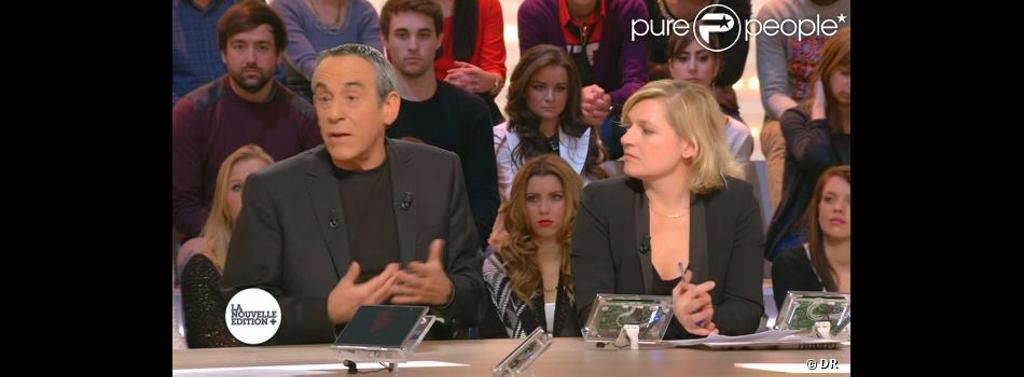face: (312, 61, 383, 161), (620, 103, 682, 177), (226, 162, 275, 230), (226, 27, 275, 89), (387, 13, 435, 75), (523, 177, 564, 238), (526, 66, 566, 117), (673, 41, 712, 91), (818, 177, 849, 238), (830, 53, 850, 103)
